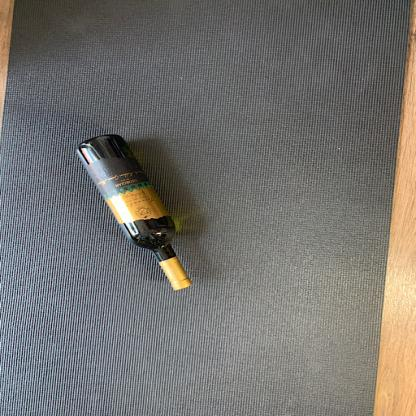trash: (73, 134, 194, 292)
